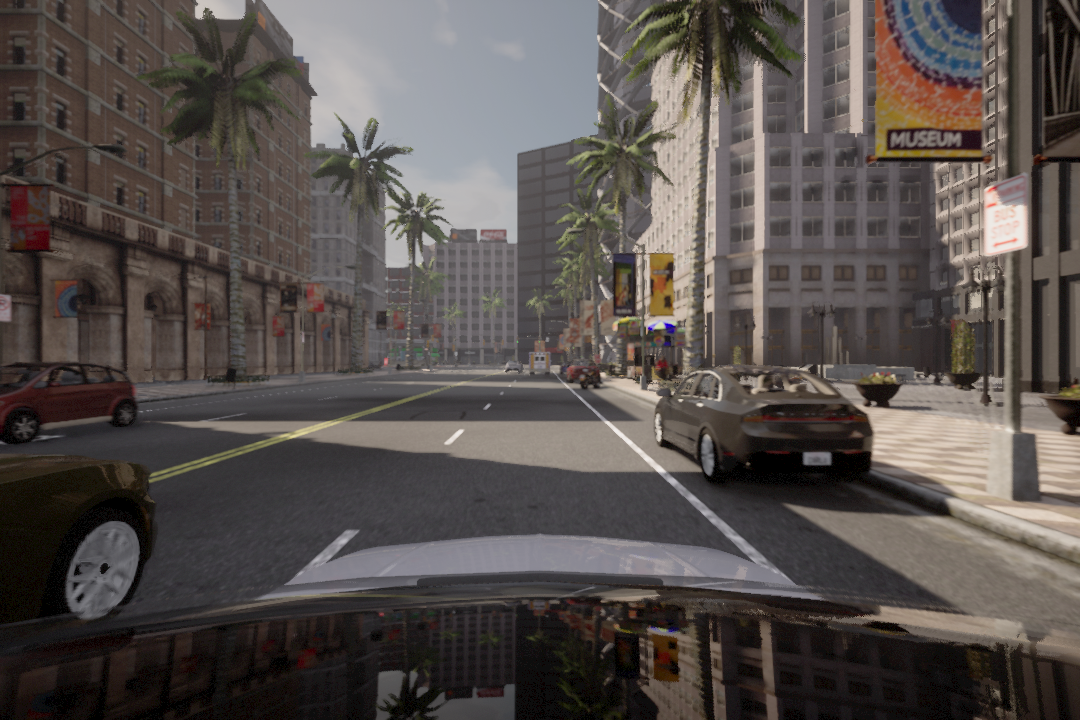TrafficSign_nstop: (1, 294, 11, 323)
